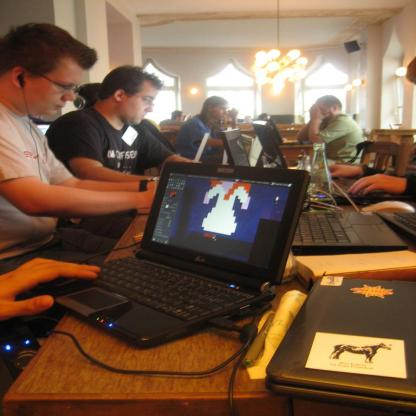board: (98, 159, 306, 327), (219, 128, 408, 257), (264, 276, 415, 414), (252, 120, 410, 203), (266, 115, 311, 144), (246, 133, 265, 166)
